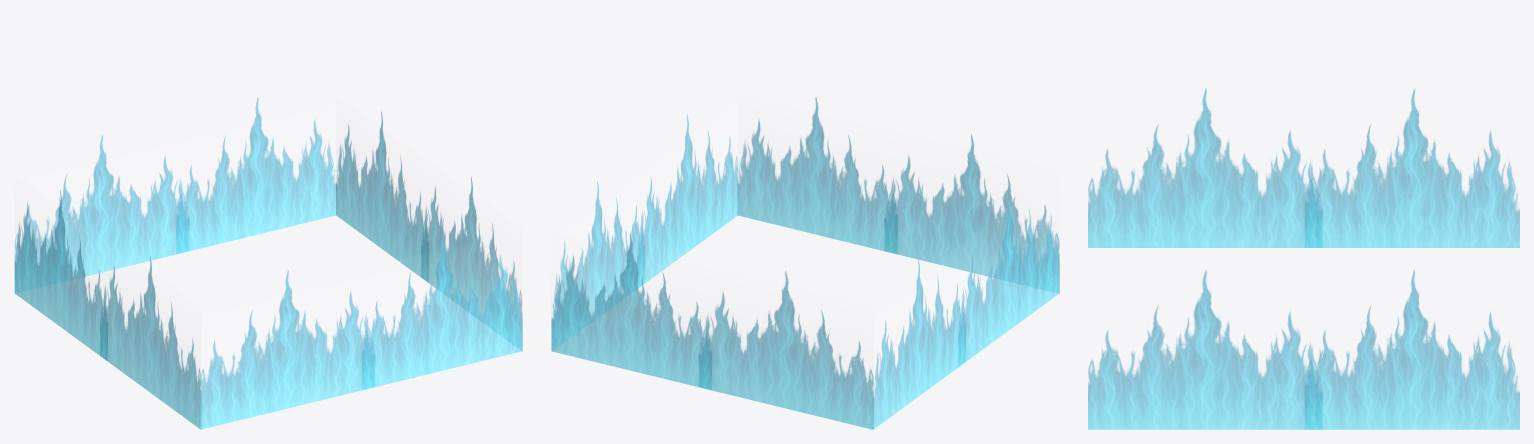
File: sz2-fire.glb
3 views of the same model, side by side, from view 1: azimuth 30°, elevation 25°; view 2: azimuth 150°, elevation 25°; view 3: azimuth 270°, elevation 25° (orthographic). The views are drawn at different scales.
Parts seen in each view (by area): view 1: fire-4, fire-3, fire-2, fire-1; view 2: fire-3, fire-4, fire-2, fire-1; view 3: fire-1, fire-2.
Part boxes in pixels (<box>): fire-4: <box>200,232,522,429</box>; fire-3: <box>14,97,335,293</box>; fire-2: <box>15,190,201,429</box>; fire-1: <box>336,111,522,351</box>; fire-3: <box>551,233,873,429</box>; fire-4: <box>738,97,1059,293</box>; fire-2: <box>873,193,1058,429</box>; fire-1: <box>552,115,738,350</box>; fire-1: <box>1088,269,1519,429</box>; fire-2: <box>1088,88,1519,247</box>.
Size of the model in its own units: 5 by 2.98 by 5.
Materials: 1 (1 with a texture image).
